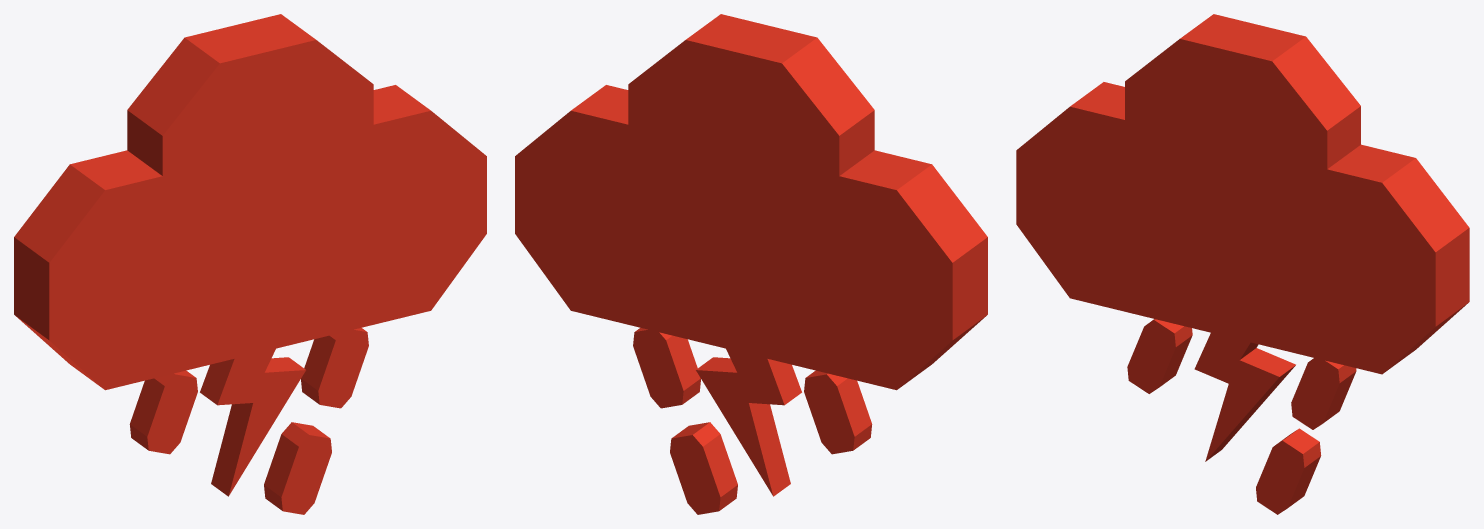
Rendered from Icon_Cloud_03.fbx.
The picture shows the model from 3 angles, left to right: view 1: azimuth 30°, elevation 25°; view 2: azimuth 150°, elevation 25°; view 3: azimuth 330°, elevation 25°; orthographic projection. The views are drawn at different scales.
Parts seen in each view (by area): view 1: Icon_Cloud_03; view 2: Icon_Cloud_03; view 3: Icon_Cloud_03.
Boxes of the visible parts, x1,y1,x2,y2 form: Icon_Cloud_03: (14, 14, 486, 514); Icon_Cloud_03: (515, 14, 987, 514); Icon_Cloud_03: (1016, 14, 1469, 514).
Size of the model in its own units: 86.11 by 90.45 by 12.06.
